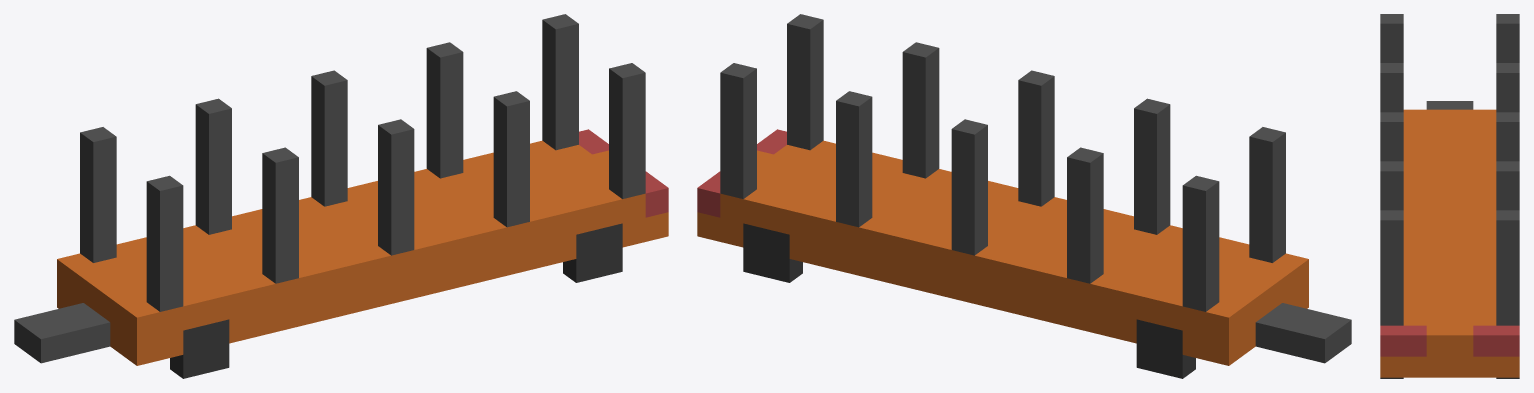
Rendered from truck-trailer-v4-orange.gltf.
3 views of the same model, side by side, from view 1: azimuth 30°, elevation 25°; view 2: azimuth 150°, elevation 25°; view 3: azimuth 270°, elevation 25° (orthographic). The views are drawn at different scales.
Parts seen in each view (by area): view 1: model, wheels; view 2: model, wheels; view 3: model.
Part boxes in pixels (left/top/right/bottom): model: left=14, top=14, right=668, bottom=365; wheels: left=170, top=223, right=622, bottom=378; model: left=697, top=14, right=1351, bottom=365; wheels: left=743, top=223, right=1195, bottom=378; model: left=1380, top=14, right=1519, bottom=377.
Bounding box in the file's own units: 2.6 × 0.8 × 0.6.
Materials: 2 (2 with a texture image).
